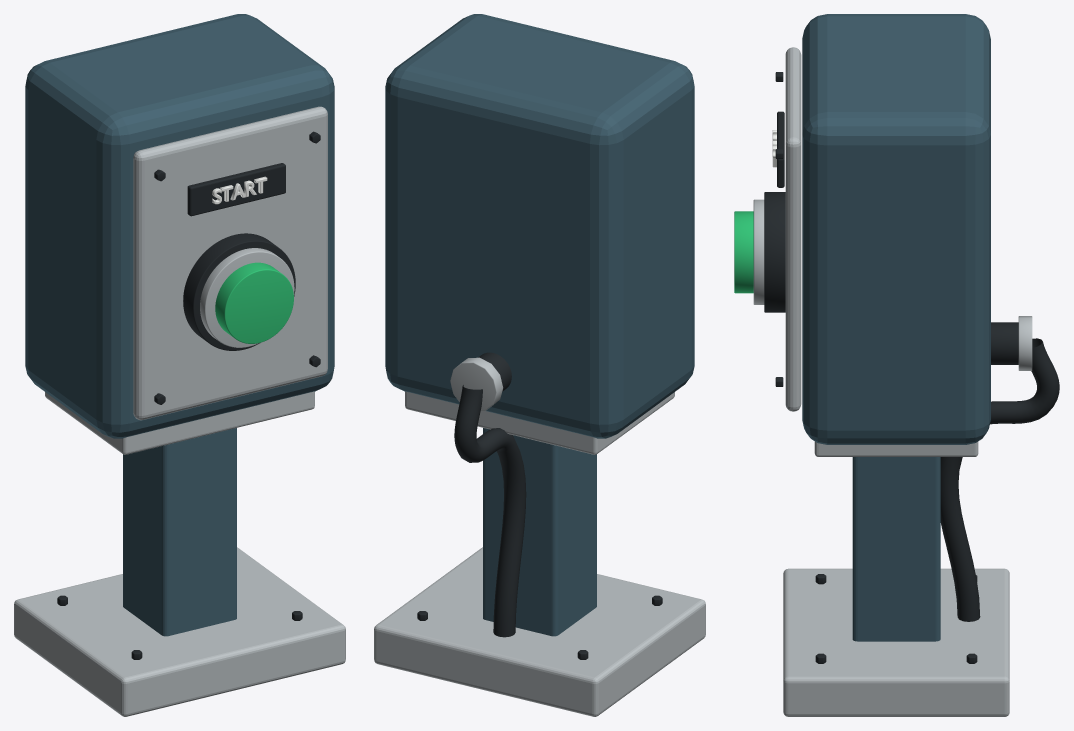
File: single_pushbutton_station.glb
3 renders of one model, left to right at view 1: azimuth 30°, elevation 25°; view 2: azimuth 150°, elevation 25°; view 3: azimuth 270°, elevation 25°, orthographic.
Parts seen in each view (by area): view 1: ENCLOSURE_body, ENCLOSURE_face, FOOT, PEDESTAL, KIN_pushbutton, PEDESTAL_mounting_flange, BUTTON_bezel, BUTTON_legend_plate, BUTTON_retaining_ring, BUTTON_start_label; view 2: ENCLOSURE_body, FOOT, PEDESTAL, CTRL_rear_conduit, PEDESTAL_mounting_flange, ENCLOSURE_rear_gland_locknut; view 3: ENCLOSURE_body, FOOT, PEDESTAL, CTRL_rear_conduit, ENCLOSURE_face, BUTTON_bezel, PEDESTAL_mounting_flange, KIN_pushbutton, BUTTON_retaining_ring, ENCLOSURE_rear_cable_gland, ENCLOSURE_rear_gland_locknut, BUTTON_legend_plate.
Boxes of the visible parts, bbox=[...] form: ENCLOSURE_body: bbox=[25, 14, 334, 438]; ENCLOSURE_face: bbox=[133, 106, 327, 420]; FOOT: bbox=[14, 547, 345, 716]; PEDESTAL: bbox=[123, 428, 236, 636]; KIN_pushbutton: bbox=[215, 262, 293, 343]; PEDESTAL_mounting_flange: bbox=[45, 391, 314, 454]; BUTTON_bezel: bbox=[183, 233, 295, 350]; BUTTON_legend_plate: bbox=[187, 163, 285, 216]; BUTTON_retaining_ring: bbox=[200, 248, 294, 347]; BUTTON_start_label: bbox=[212, 176, 267, 204]; ENCLOSURE_body: bbox=[385, 14, 694, 438]; FOOT: bbox=[374, 547, 705, 716]; PEDESTAL: bbox=[483, 428, 596, 636]; CTRL_rear_conduit: bbox=[454, 385, 526, 637]; PEDESTAL_mounting_flange: bbox=[405, 391, 674, 454]; ENCLOSURE_rear_gland_locknut: bbox=[450, 357, 503, 410]; ENCLOSURE_body: bbox=[802, 14, 990, 444]; FOOT: bbox=[783, 568, 1009, 716]; PEDESTAL: bbox=[852, 457, 940, 641]; CTRL_rear_conduit: bbox=[940, 338, 1059, 621]; ENCLOSURE_face: bbox=[785, 47, 801, 411]; BUTTON_bezel: bbox=[764, 192, 785, 312]; PEDESTAL_mounting_flange: bbox=[814, 441, 978, 456]; KIN_pushbutton: bbox=[734, 211, 753, 293]; BUTTON_retaining_ring: bbox=[753, 199, 764, 304]; ENCLOSURE_rear_cable_gland: bbox=[991, 322, 1018, 364]; ENCLOSURE_rear_gland_locknut: bbox=[1018, 316, 1032, 370]; BUTTON_legend_plate: bbox=[777, 111, 784, 187].
Bounding box in the file's own units: 0.44 × 1.05 × 0.5174.
